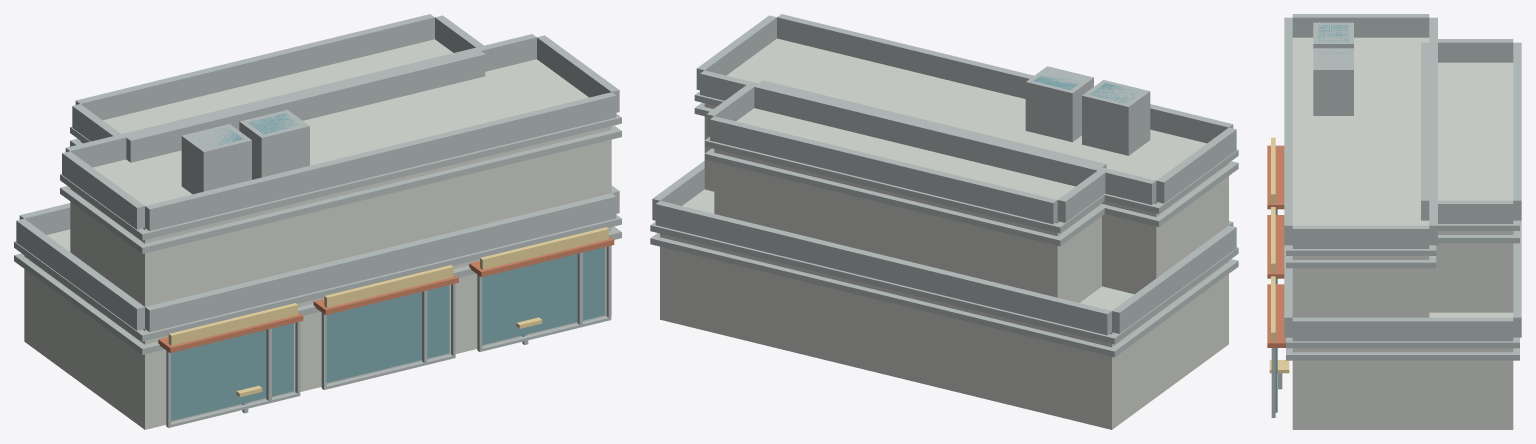
The model's file is commercial_2x1_court.glb.
3 renders of one model, left to right at view 1: azimuth 30°, elevation 25°; view 2: azimuth 150°, elevation 25°; view 3: azimuth 270°, elevation 25°, orthographic. The views are drawn at different scales.
Parts seen in each view (by area): view 1: commercial_2x1_court_0; view 2: commercial_2x1_court_0; view 3: commercial_2x1_court_0.
Part boxes in pixels (x1=…): commercial_2x1_court_0: x1=14, y1=14, x2=621, y2=429; commercial_2x1_court_0: x1=650, y1=14, x2=1238, y2=429; commercial_2x1_court_0: x1=1267, y1=14, x2=1521, y2=429.
Bounding box in the file's own units: 15 × 7.5 × 7.5.
